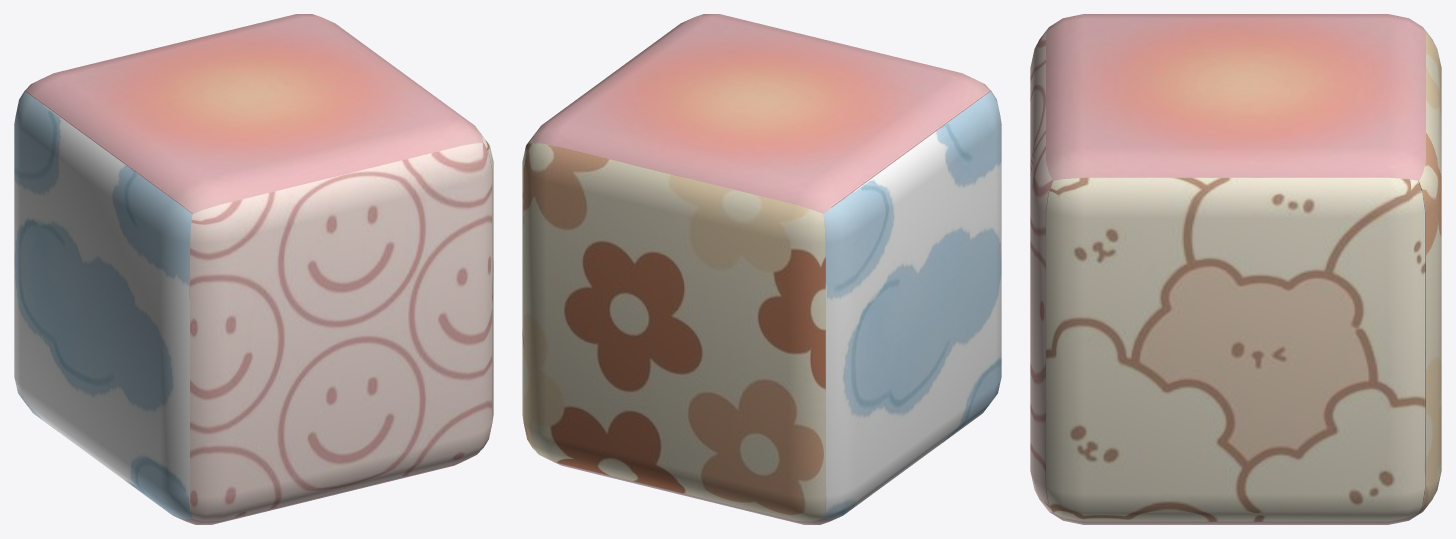
3 renders of one model, left to right at view 1: azimuth 30°, elevation 25°; view 2: azimuth 150°, elevation 25°; view 3: azimuth 270°, elevation 25°, orthographic. The views are drawn at different scales.
Parts seen in each view (by area): view 1: Cube; view 2: Cube; view 3: Cube.
Part boxes in pixels (<box>): Cube: <box>14,14,493,524</box>; Cube: <box>522,14,1001,524</box>; Cube: <box>1030,14,1441,524</box>.
Size of the model in its own units: 0.2154 by 0.2154 by 0.2154.
6 materials, 5 textured.
